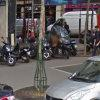Motorcycle: (42, 29, 86, 64)
